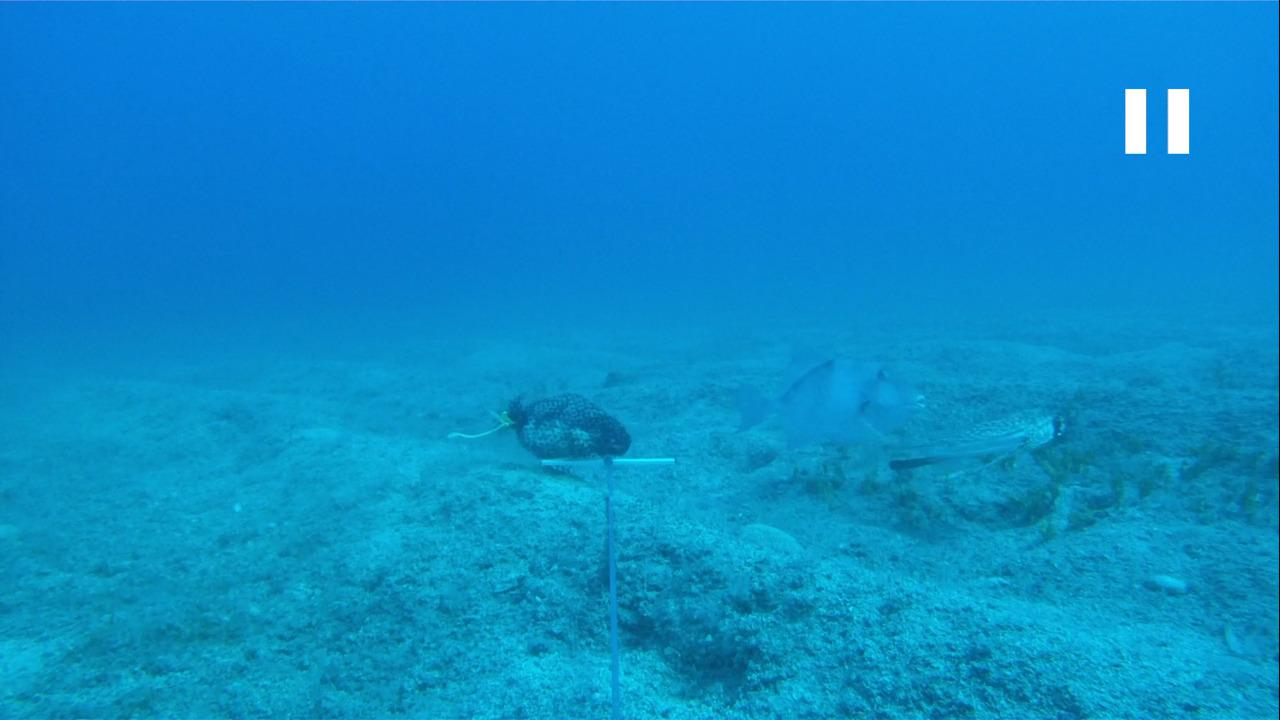balistes: (709, 339, 930, 474)
dactylopterus: (858, 405, 1075, 476)
